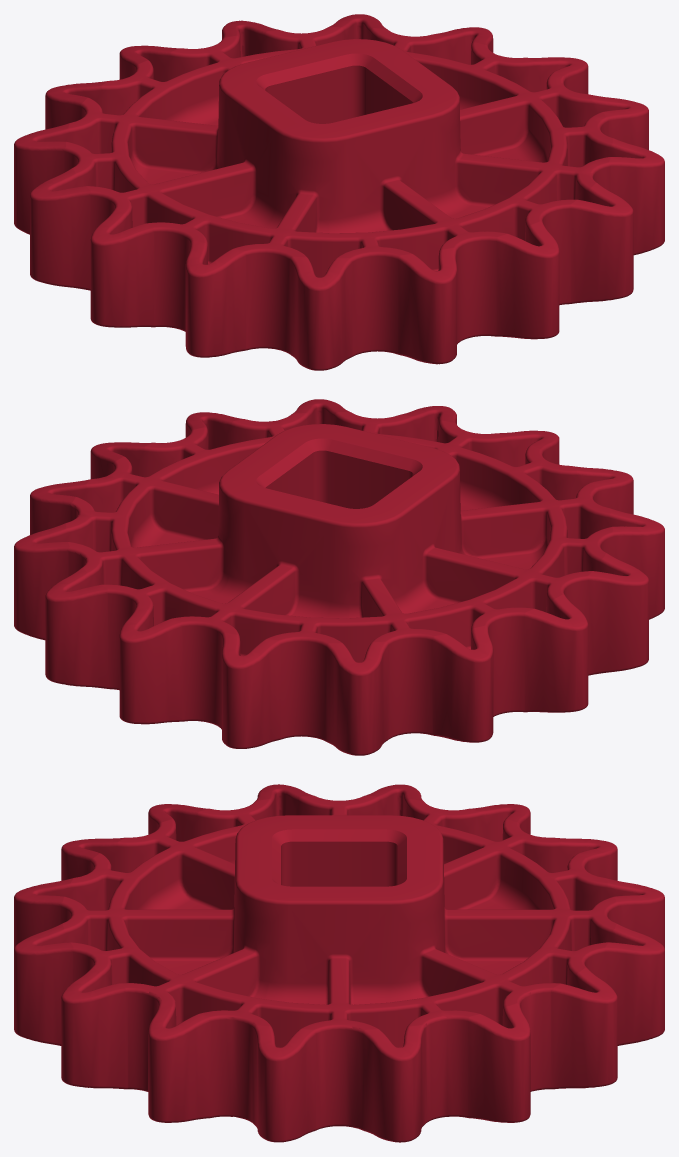
The model's file is 16T Sprocket, 6P (276-8328).glb.
3 renders of one model, top to bottom at view 1: azimuth 30°, elevation 25°; view 2: azimuth 150°, elevation 25°; view 3: azimuth 270°, elevation 25°, orthographic.
Parts seen in each view (by area): view 1: 276-8030-002 Rev2; view 2: 276-8030-002 Rev2; view 3: 276-8030-002 Rev2.
Part boxes in pixels (box(x1,y1,x2,y2)): 276-8030-002 Rev2: box(14, 14, 664, 370); 276-8030-002 Rev2: box(14, 399, 664, 755); 276-8030-002 Rev2: box(14, 784, 664, 1142).
Bounding box in the file's own units: 0.0355 × 0.0127 × 0.0355.
